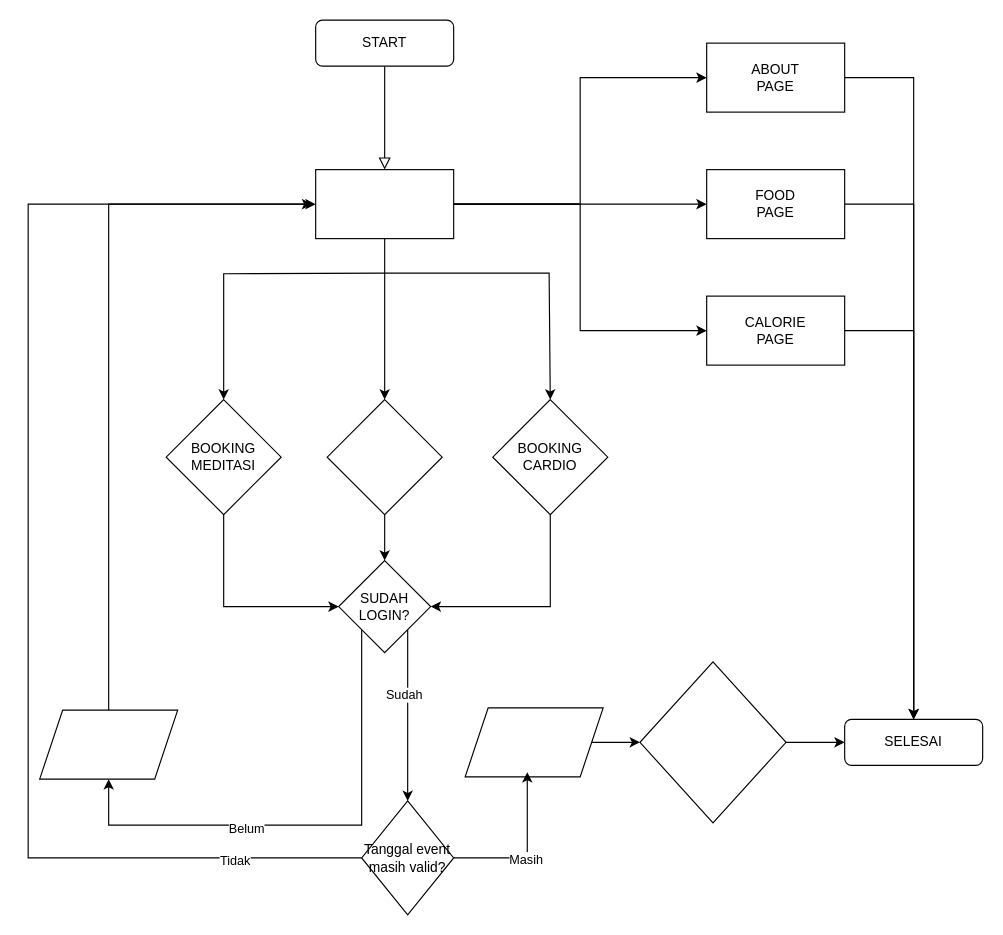
Image size: 1003x935. Some labels were removed from this diagram. Each missing label, with the centre of its shape:
BOOKING ZUMBA: (384,456)
HOME: (384,203)
LOGIN: (108,744)
PEMBAYARAN: (533,742)
Simpan ke history dan kirim token ke Email user: (712,742)
